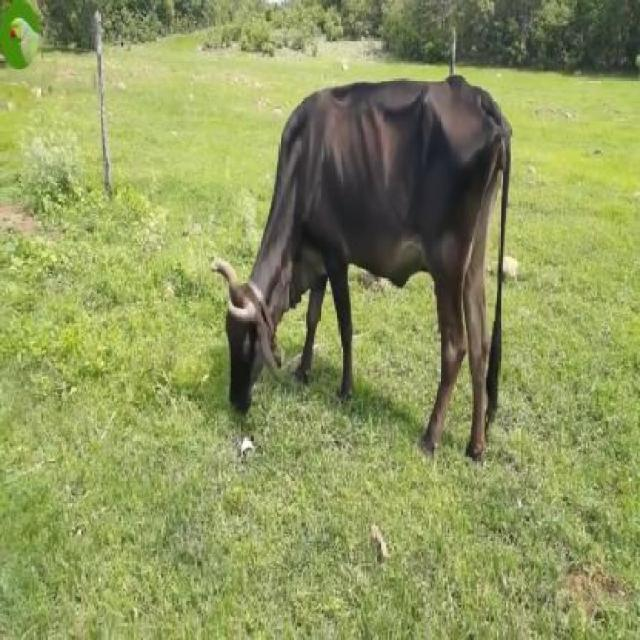Cow: (215, 75, 512, 457)
